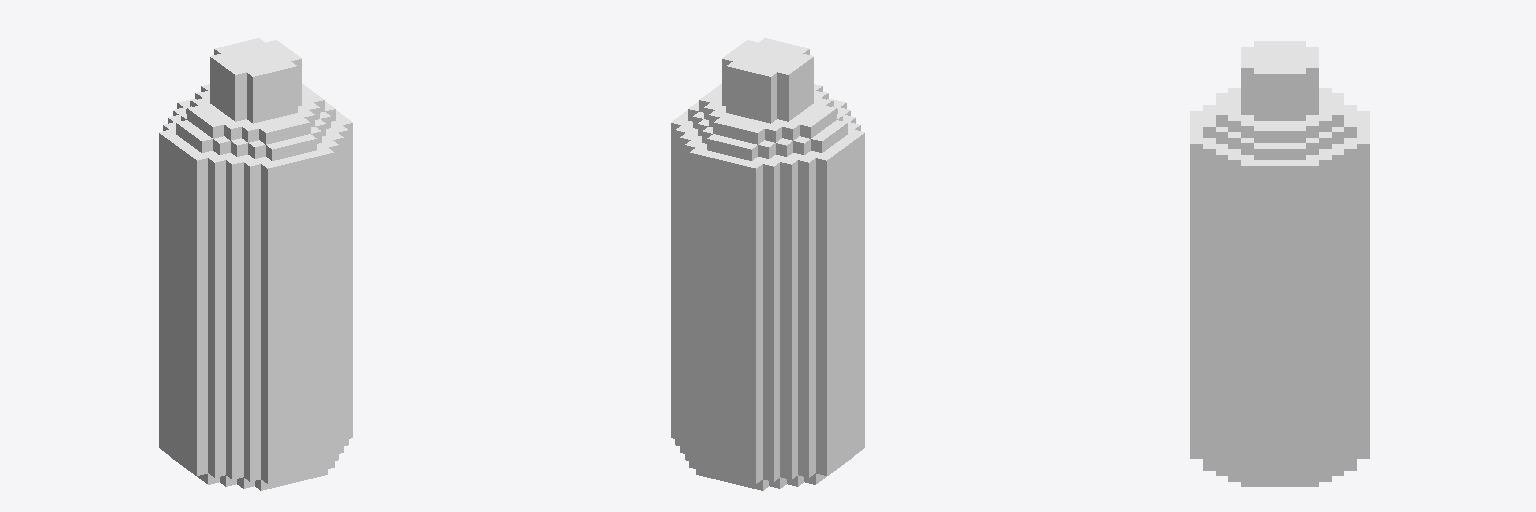
File: energyBottle.obj
The picture shows the model from 3 angles: view 1: azimuth 30°, elevation 25°; view 2: azimuth 150°, elevation 25°; view 3: azimuth 270°, elevation 25°; orthographic projection.
Parts seen in each view (by area): view 1: object 1; view 2: object 1; view 3: object 1.
Part boxes in pixels (left/top/right/bottom): object 1: left=159, top=38, right=352, bottom=490; object 1: left=671, top=38, right=864, bottom=490; object 1: left=1190, top=41, right=1369, bottom=486.
Bounding box in the file's own units: 2.8 × 6.8 × 2.8.